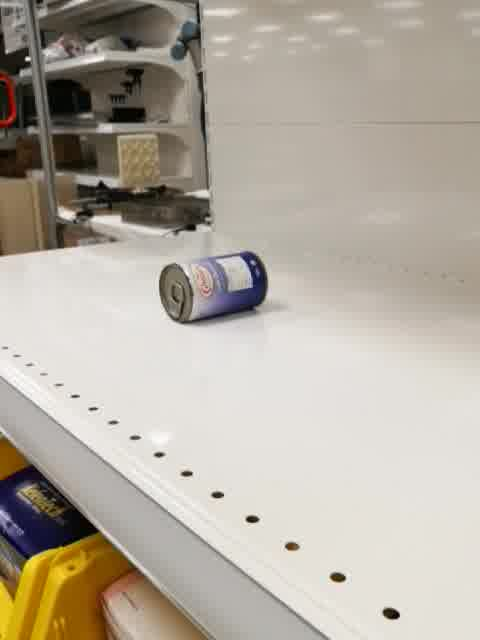sardine: (157, 251, 269, 325)
